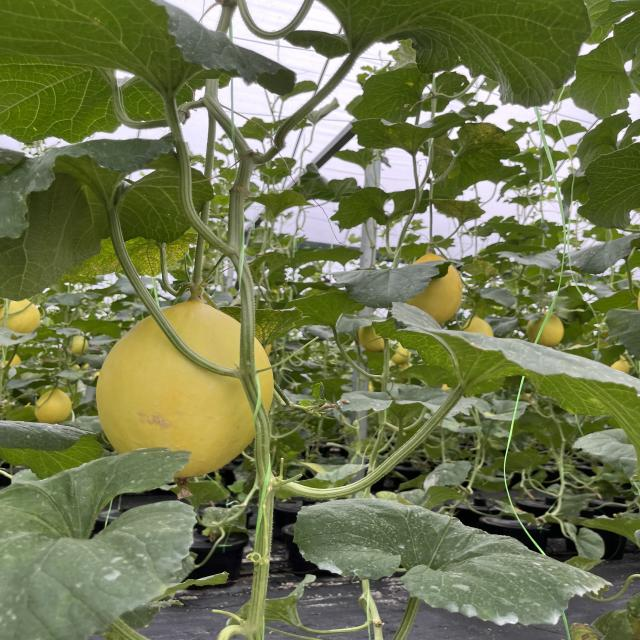downy mildew: (287, 497, 600, 630), (0, 441, 205, 639), (385, 304, 640, 452)
healthy: (0, 0, 291, 144)
